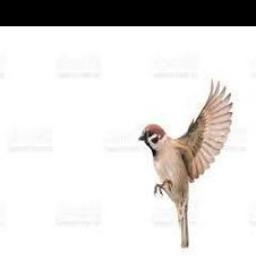Sparrow: (138, 78, 233, 248)
